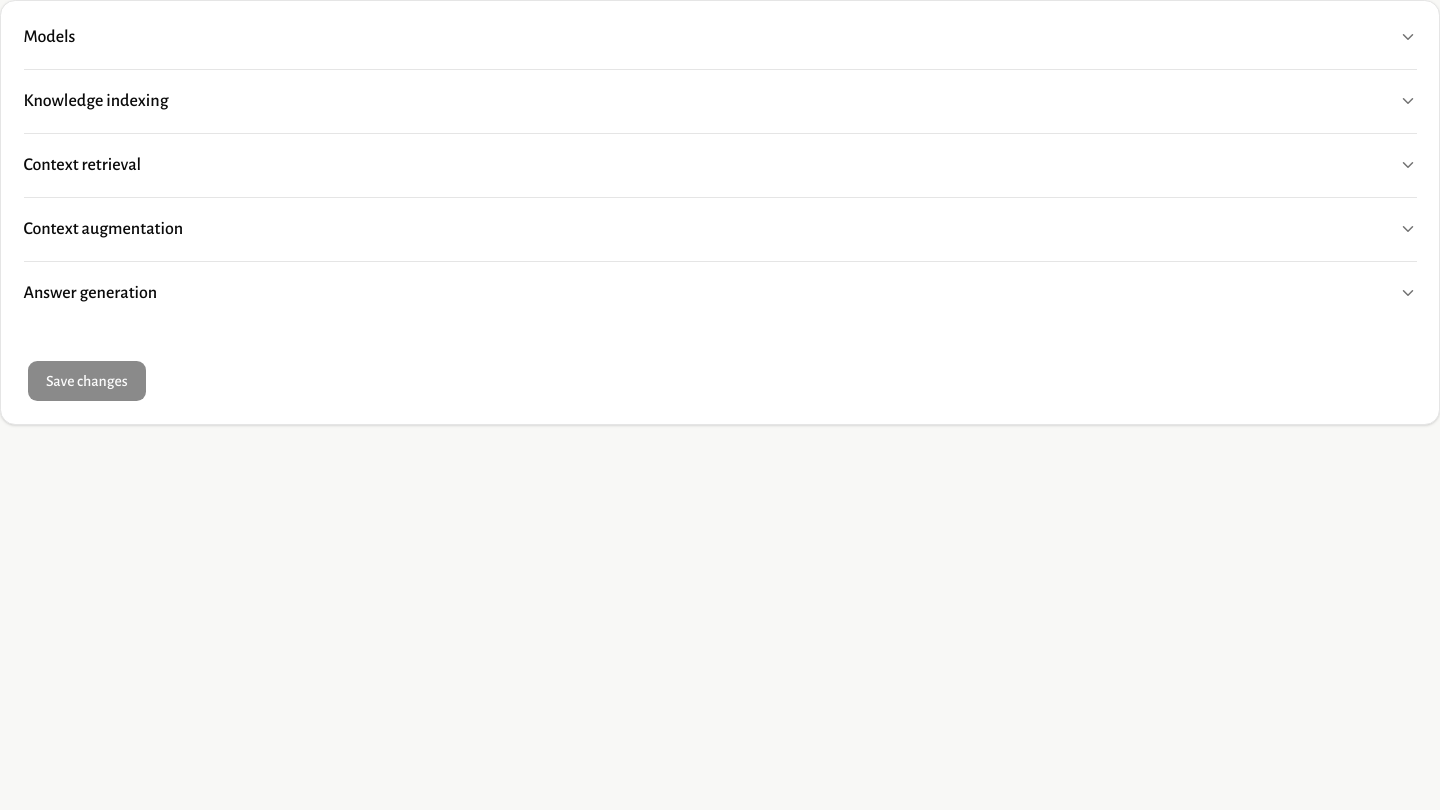
Test: ProjectDefaultsForm › should enable save button after opening retrieval section and modifying top-k
The image size is (1440, 810).
Click the button "Context retrieval" at (82, 164), box [24, 134, 1416, 196]
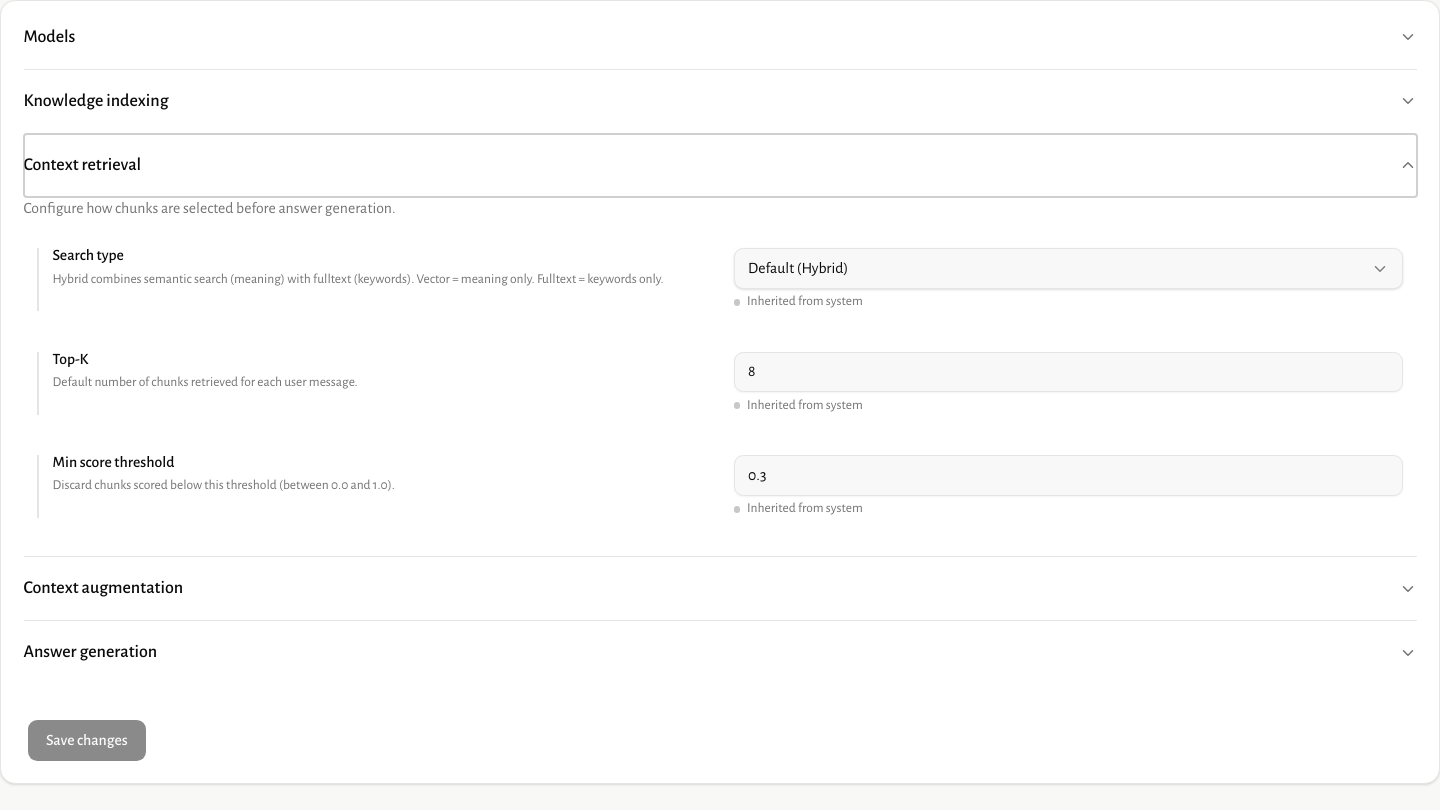
Replace the text in the number field labelled "Top-K" with "5" at (1068, 372), box [734, 352, 1403, 392]
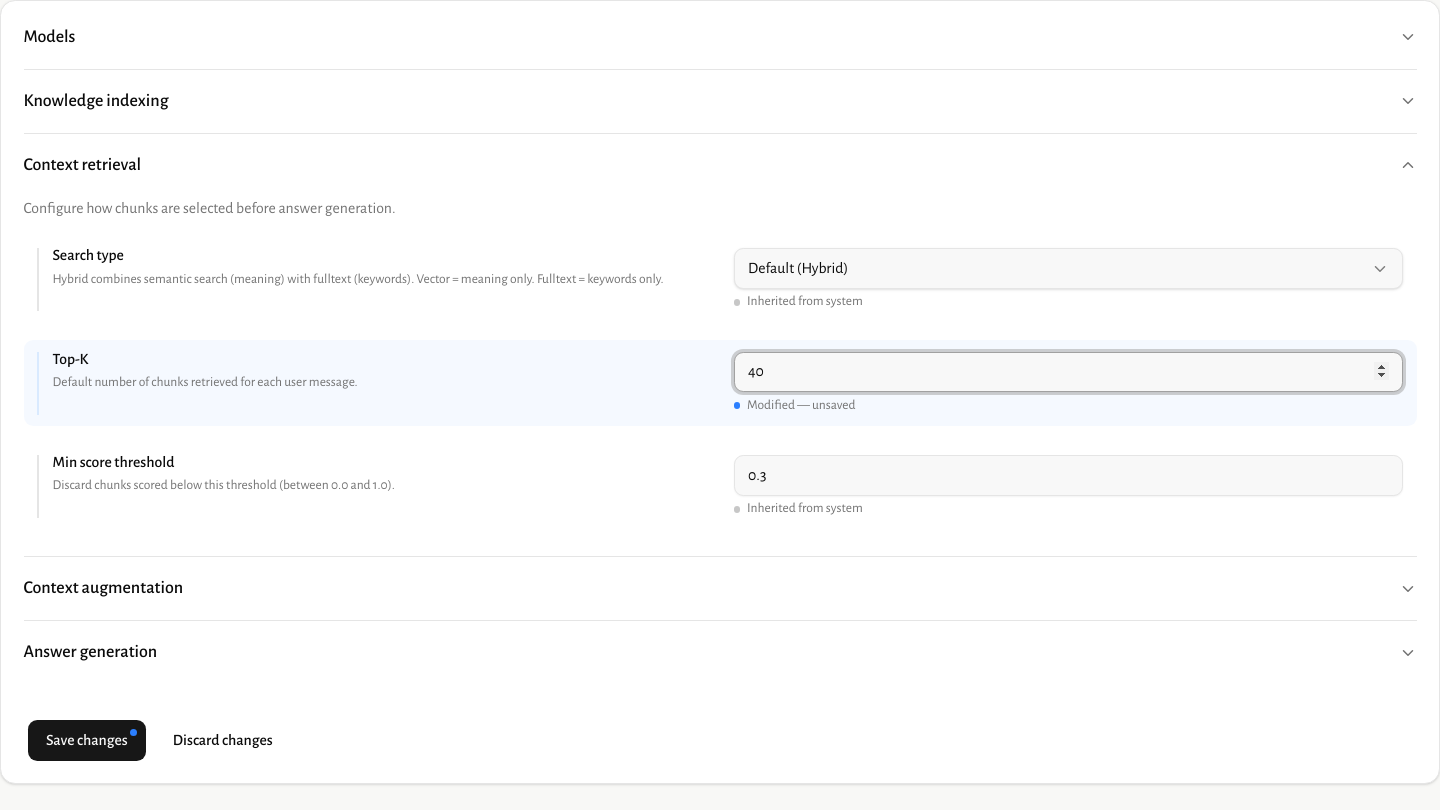
Expected: the button "Save changes" is enabled, [28, 720, 146, 761]
